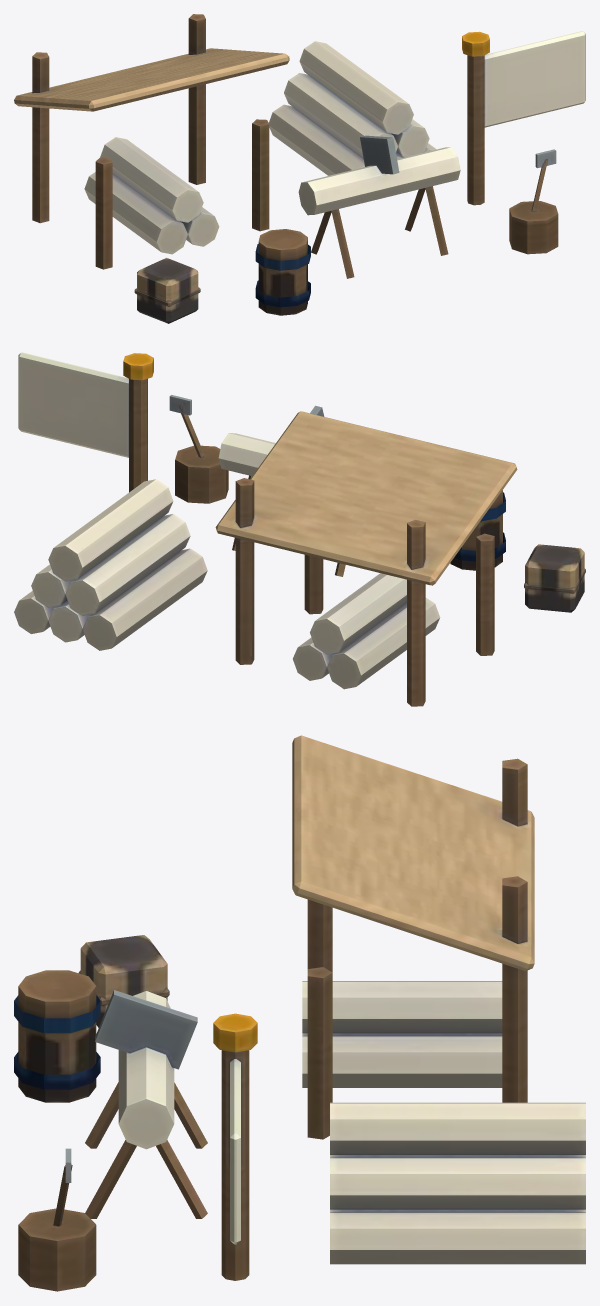
The model's file is lumberyard-1.glb.
The picture shows the model from 3 angles, top to bottom: view 1: azimuth 30°, elevation 25°; view 2: azimuth 150°, elevation 25°; view 3: azimuth 270°, elevation 25°; orthographic projection. The views are drawn at different scales.
Visible parts, largest first — view 1: lumberyard-1; view 2: lumberyard-1; view 3: lumberyard-1.
Part boxes in pixels (x1,y1,x2,y2): lumberyard-1: (14, 14, 585, 323); lumberyard-1: (14, 352, 585, 706); lumberyard-1: (14, 735, 585, 1291).
Bounding box in the file's own units: 1.53 × 0.5347 × 1.03.
Materials: 1 (1 with a texture image).
